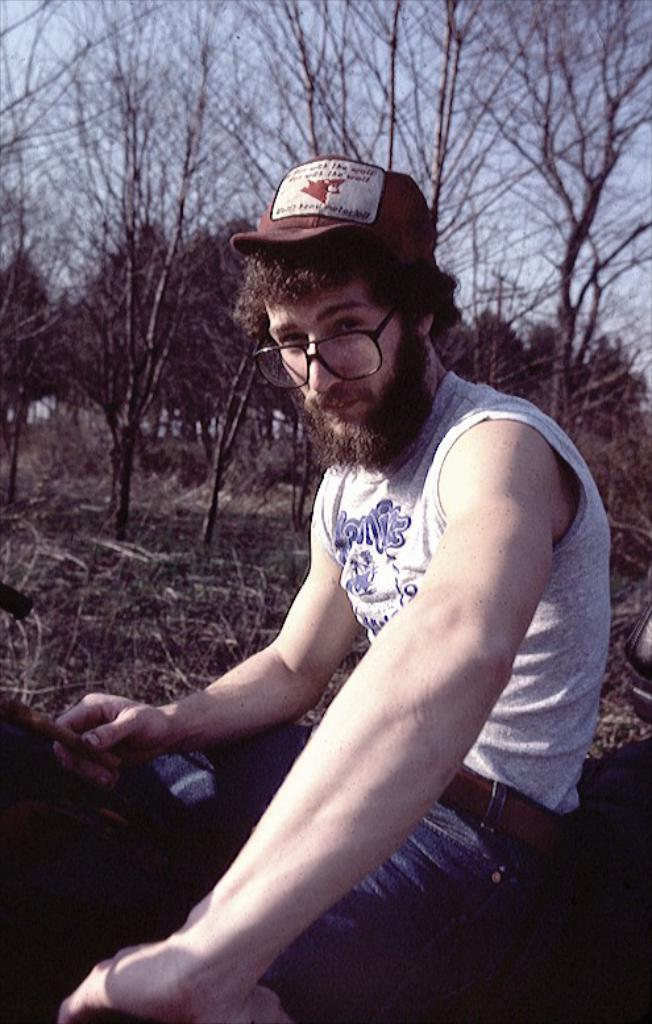Hat: (228, 156, 436, 261)
